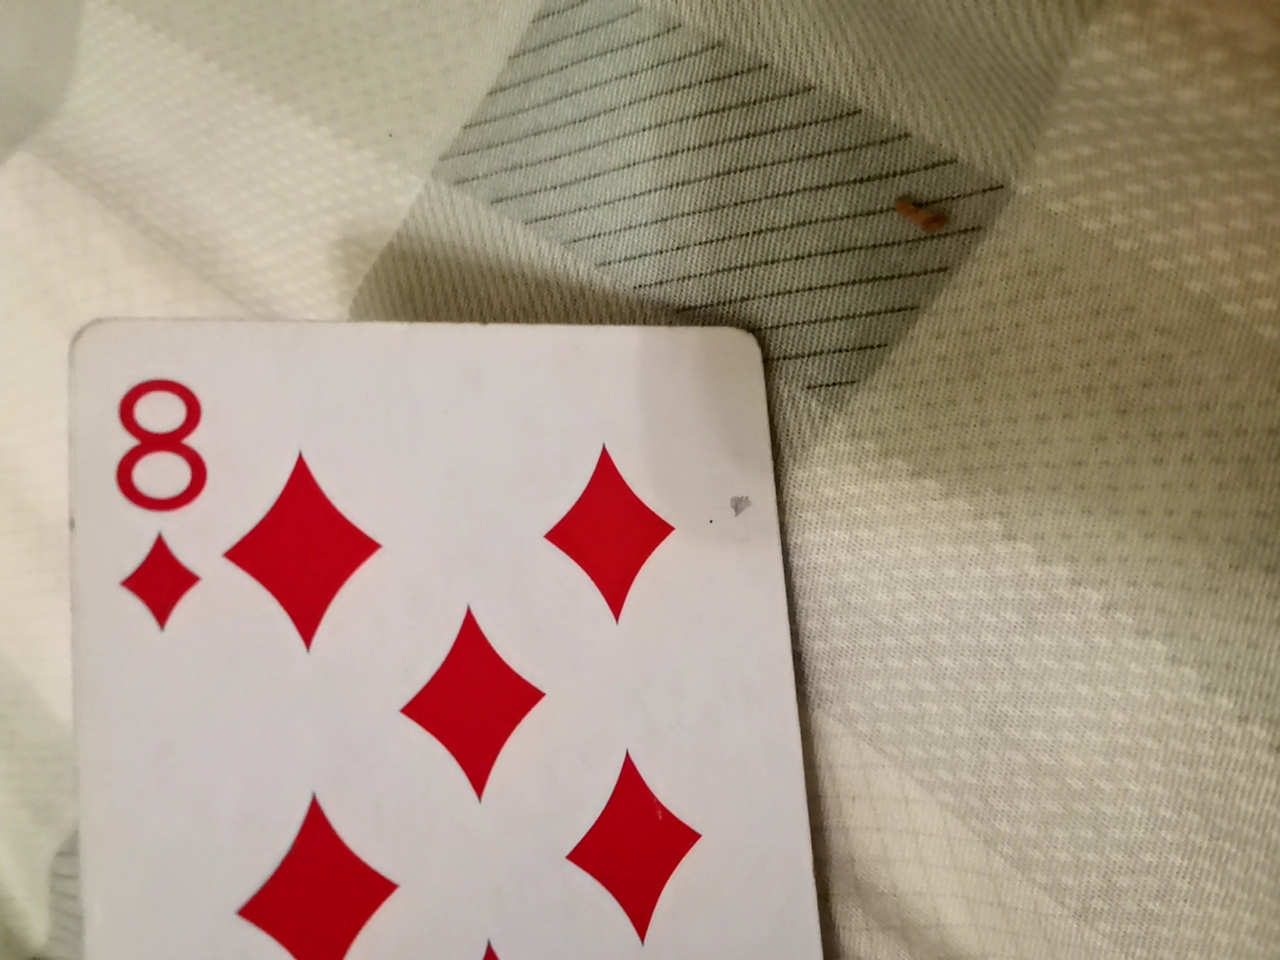fk 8: (31, 304, 842, 960)
